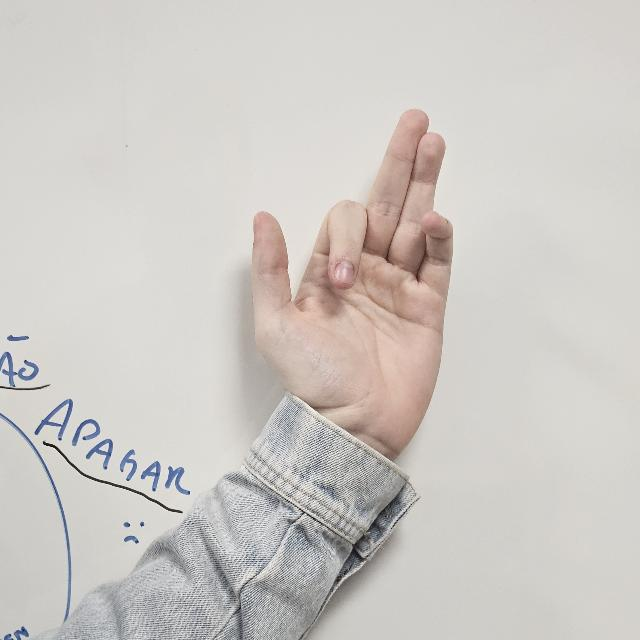R: (248, 108, 454, 466)
